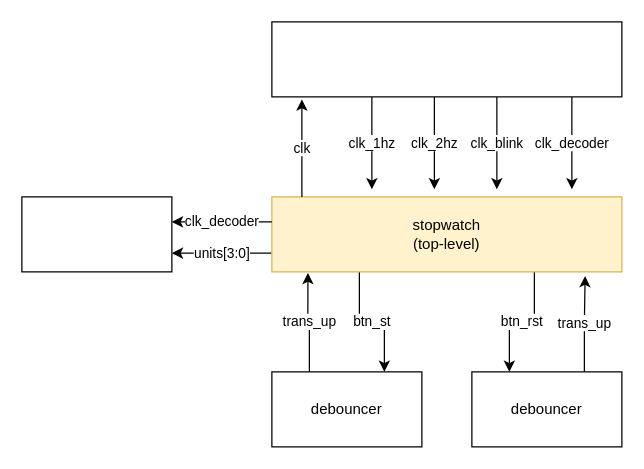
Some shapes in this 644 by 469 pixel diagram are drawn without their labels. Each missing label, with the centre of its shape:
"clk_div" belongs at (x=446, y=59).
"decoder_7_seg" belongs at (x=96, y=234).
